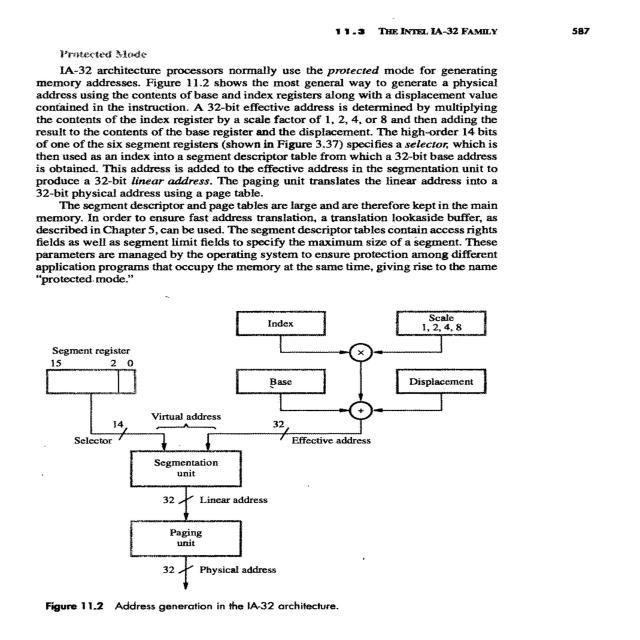diagram: (0, 290, 494, 617)
